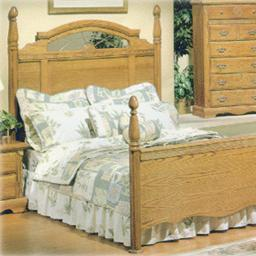Armario: (193, 0, 255, 117)
Cama: (24, 72, 249, 242)
